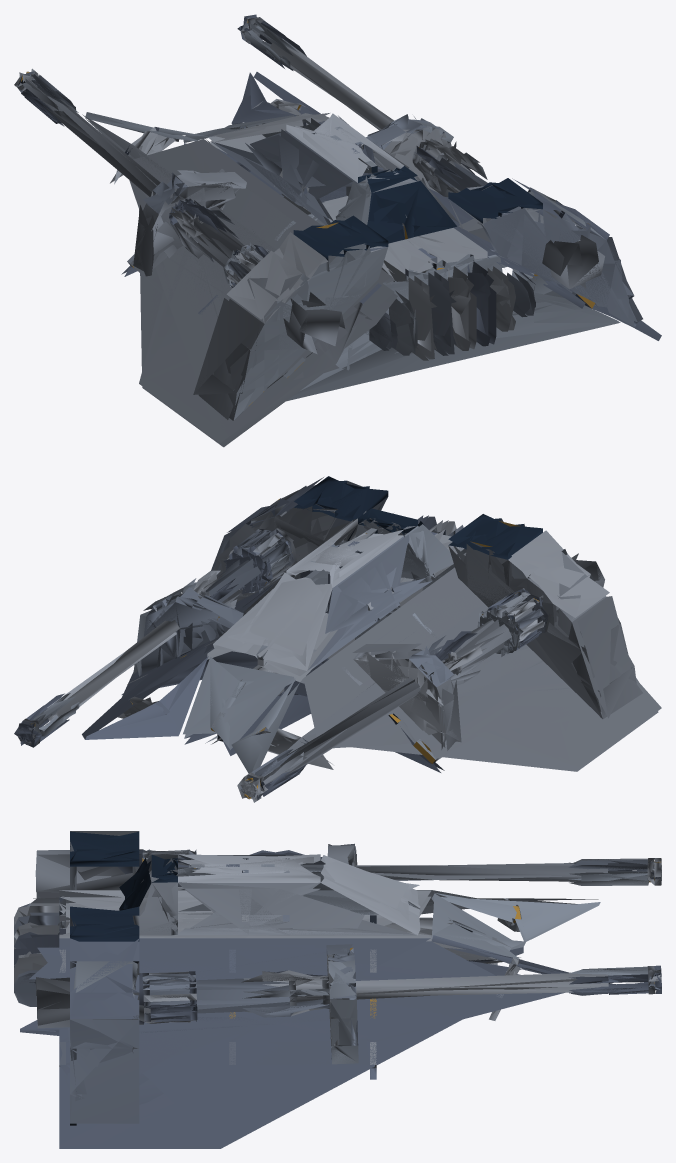
The model's file is snowspeeder.glb.
The picture shows the model from 3 angles, top to bottom: view 1: azimuth 30°, elevation 25°; view 2: azimuth 150°, elevation 25°; view 3: azimuth 270°, elevation 25°; orthographic projection.
Parts seen in each view (by area): view 1: snowspeeder; view 2: snowspeeder; view 3: snowspeeder.
Boxes of the visible parts, x1,y1,x2,y2 form: snowspeeder: (14,14,661,447); snowspeeder: (14,476,661,802); snowspeeder: (14,831,661,1148).
Bounding box in the file's own units: 0.7813 × 0.3029 × 1.
